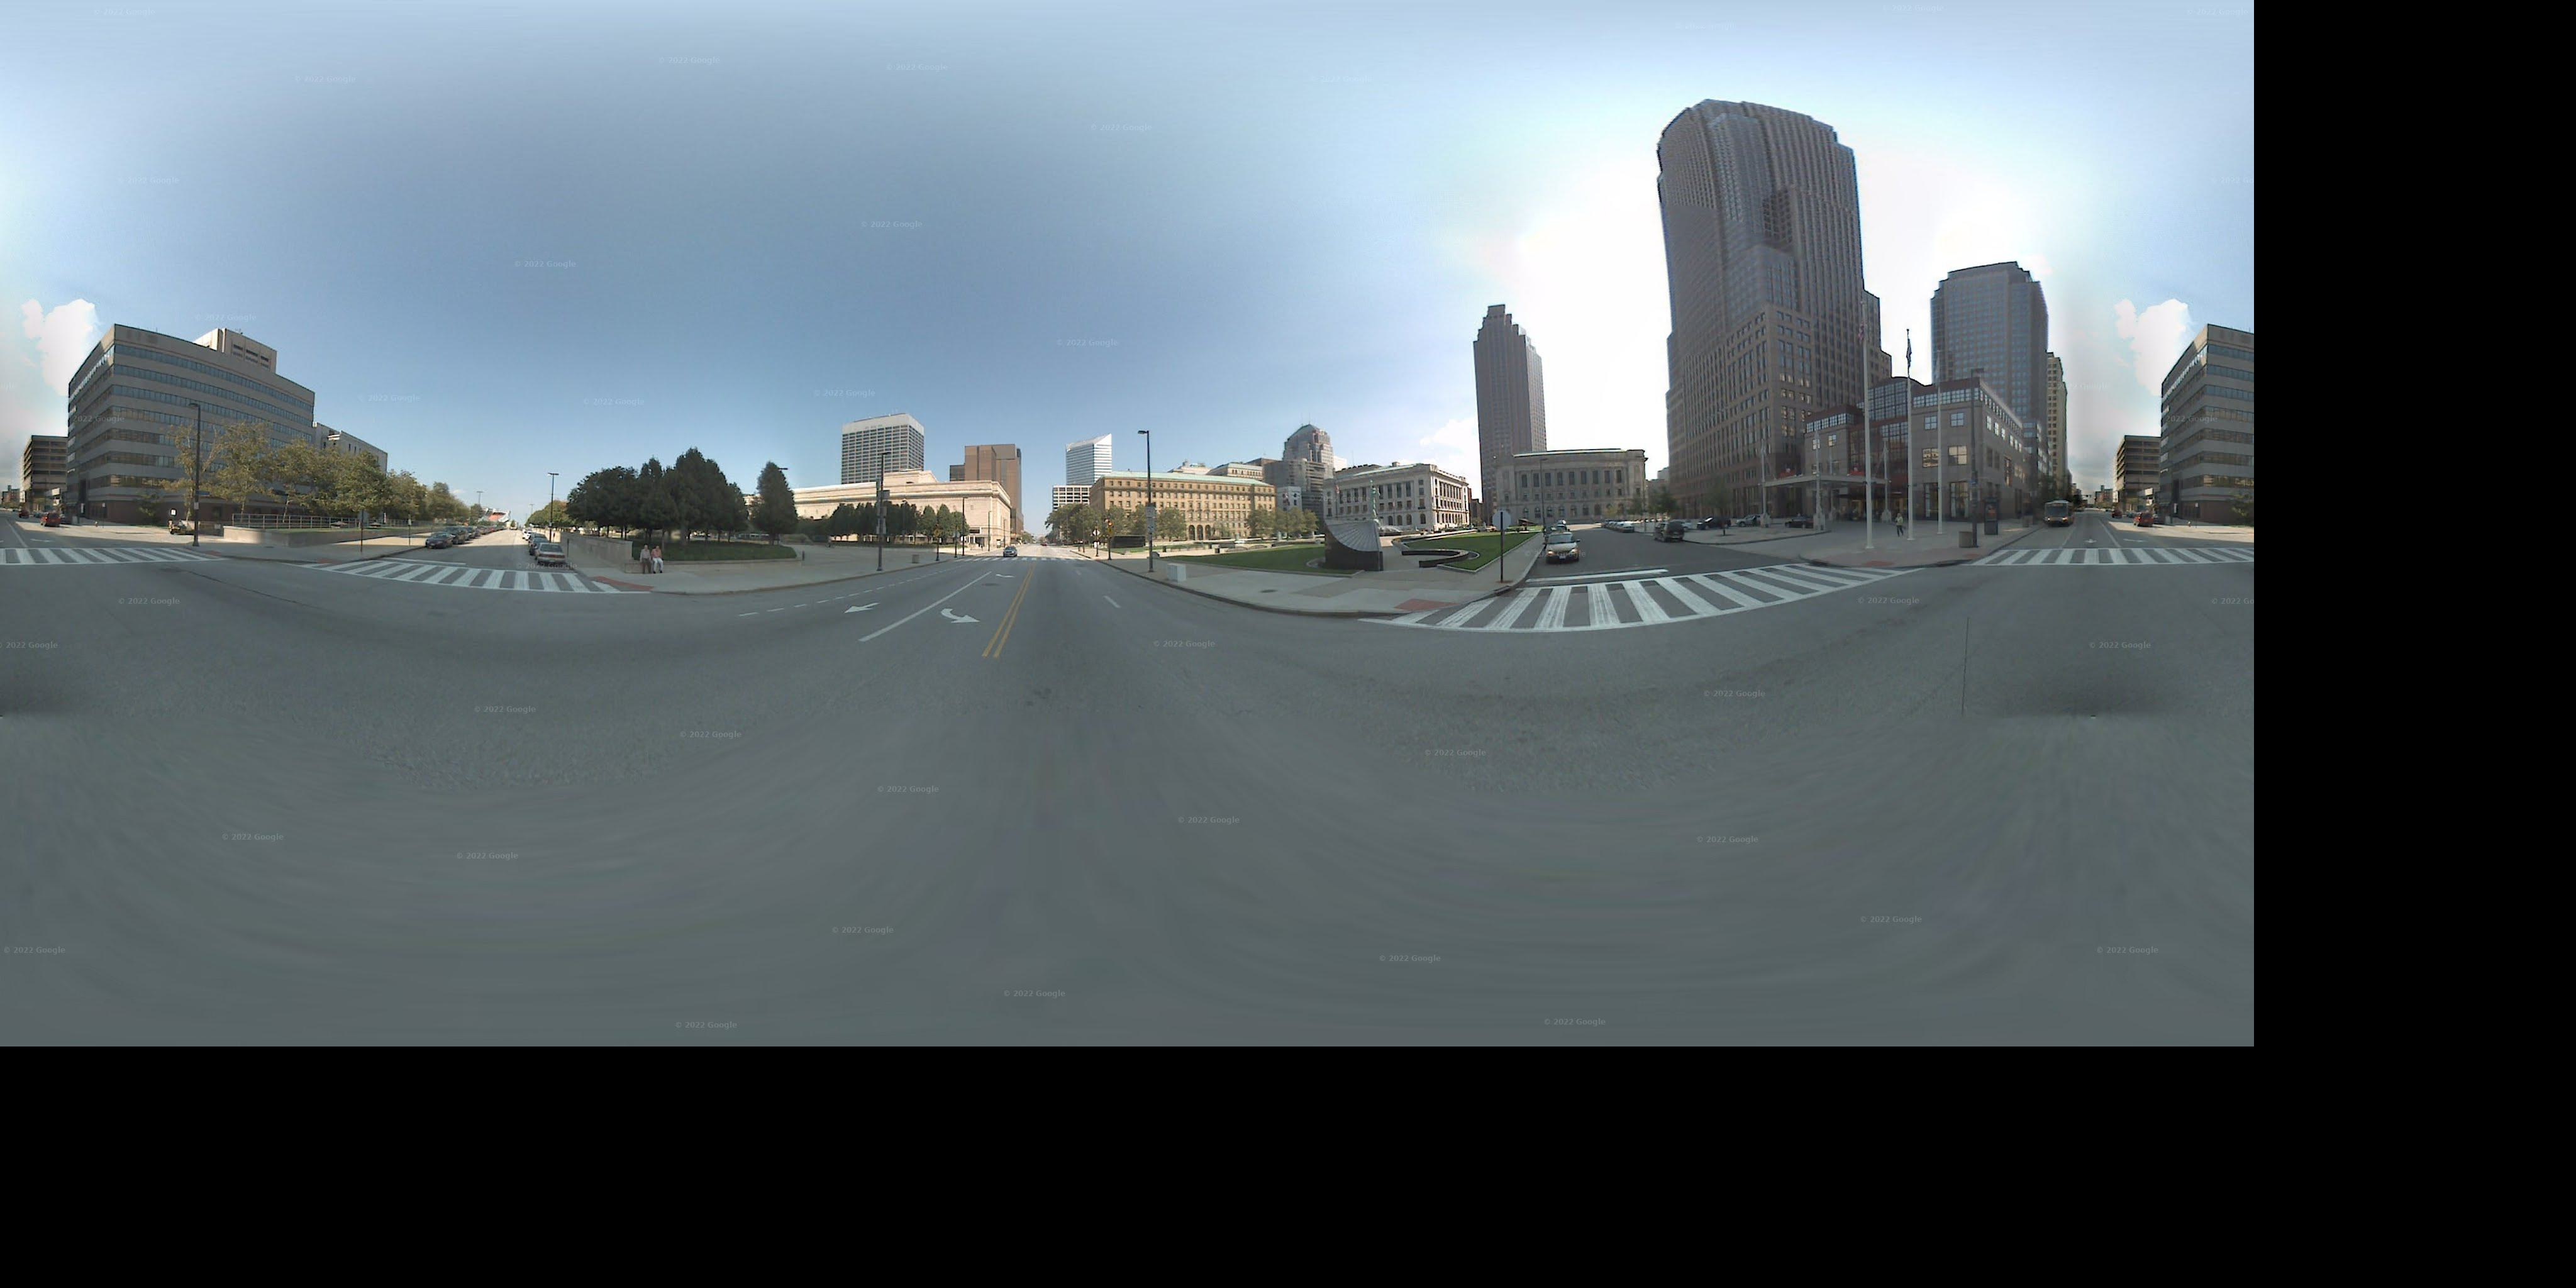Curb Ramp: (1390, 588, 1469, 619), (586, 568, 655, 598), (1848, 552, 1893, 573), (1952, 544, 1989, 567), (309, 550, 348, 568), (199, 545, 225, 559)
